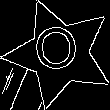O_S: (35, 27, 84, 81)
